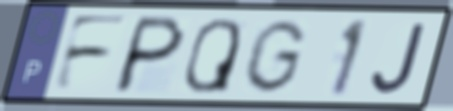1: (329, 17, 371, 99)
F: (48, 13, 133, 94)
G: (239, 17, 310, 95)
J: (370, 20, 430, 96)
P: (109, 13, 189, 96)
Q: (181, 15, 244, 95)
